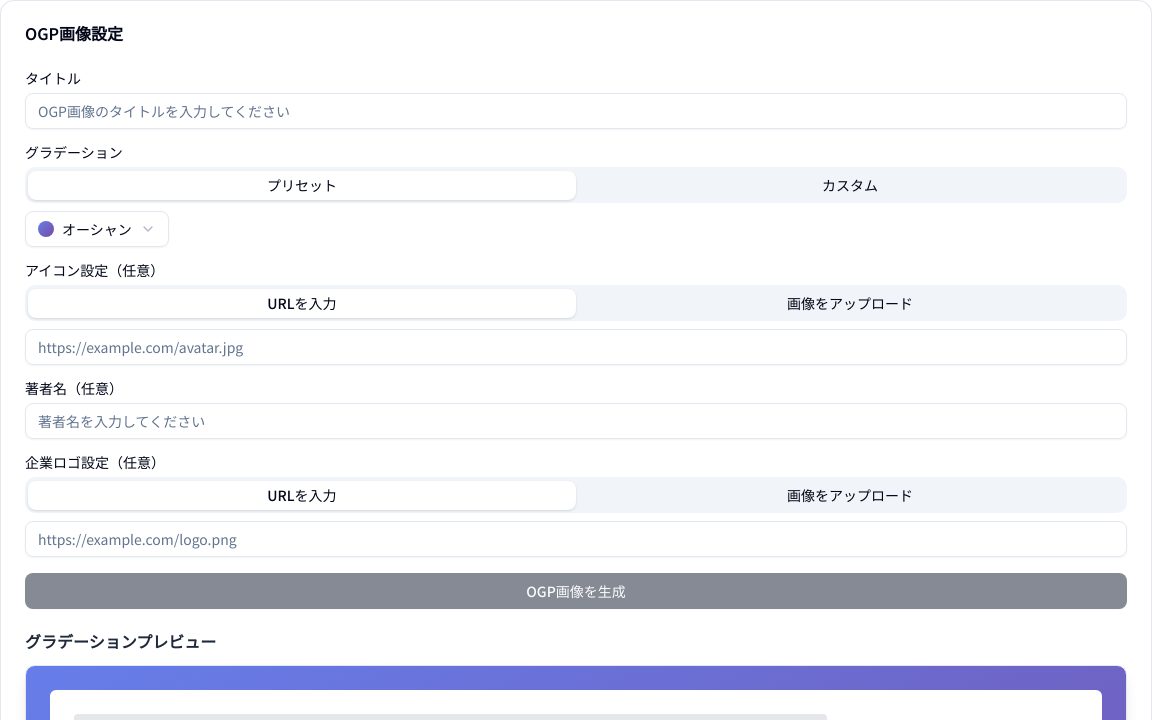
Test: OGP画像作成フォーム › OGP画像生成機能 › ユーザーが生成ボタンを押して処理中のとき › 生成中の表示に変わる
This screenshot has width=1152, height=720.
In the field labelled "タイトル": (576, 111) [25,93,1127,129], type "テストタイトル"
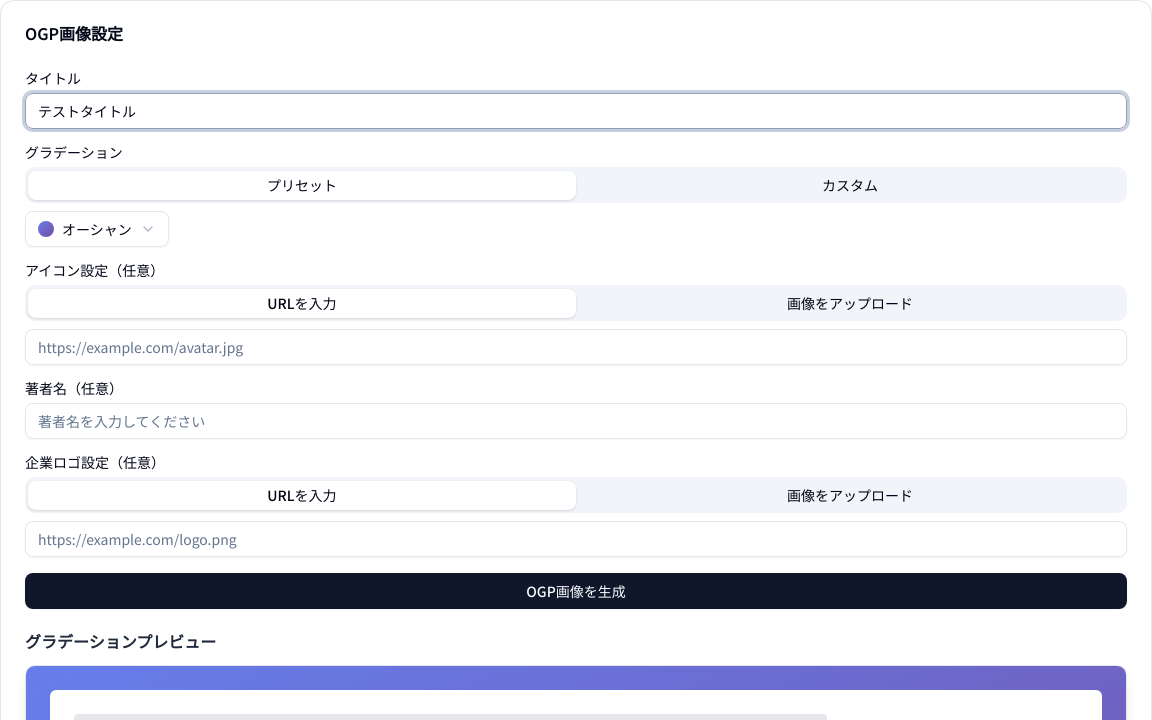
Note: 生成ボタンをクリックする
Click the button "OGP画像を生成": click(576, 591) [25,573,1127,609]
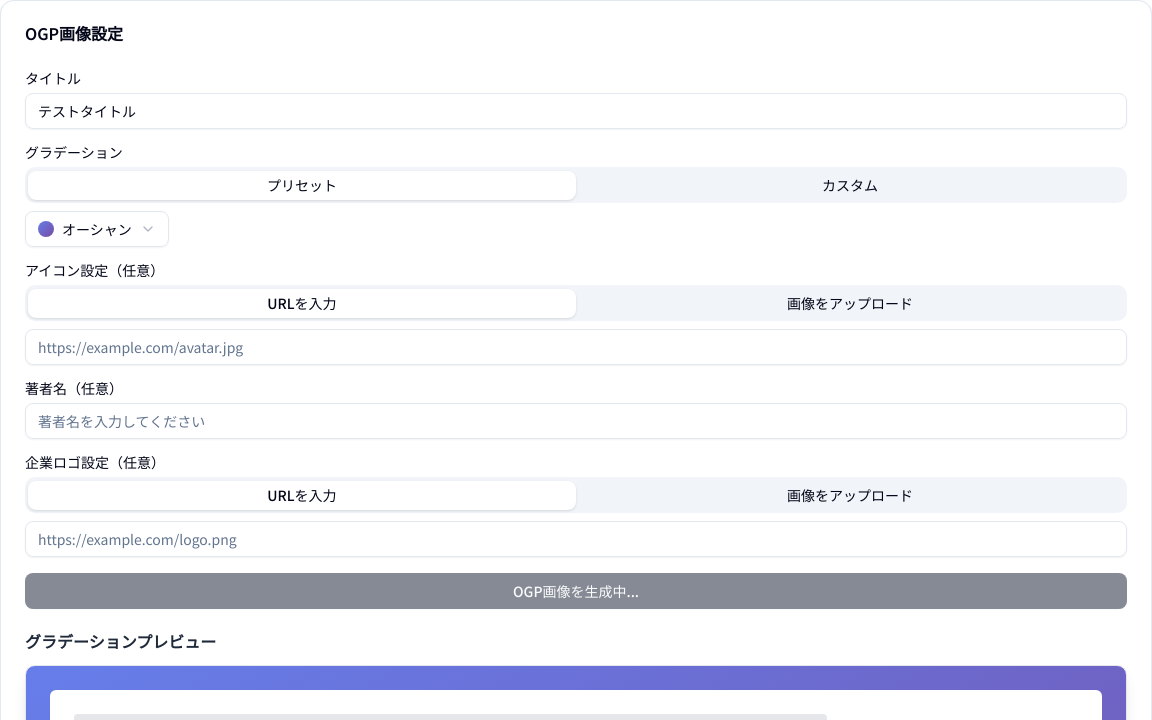
expect the button "OGP画像を生成中..." is shown: met, box [25,573,1127,609]
